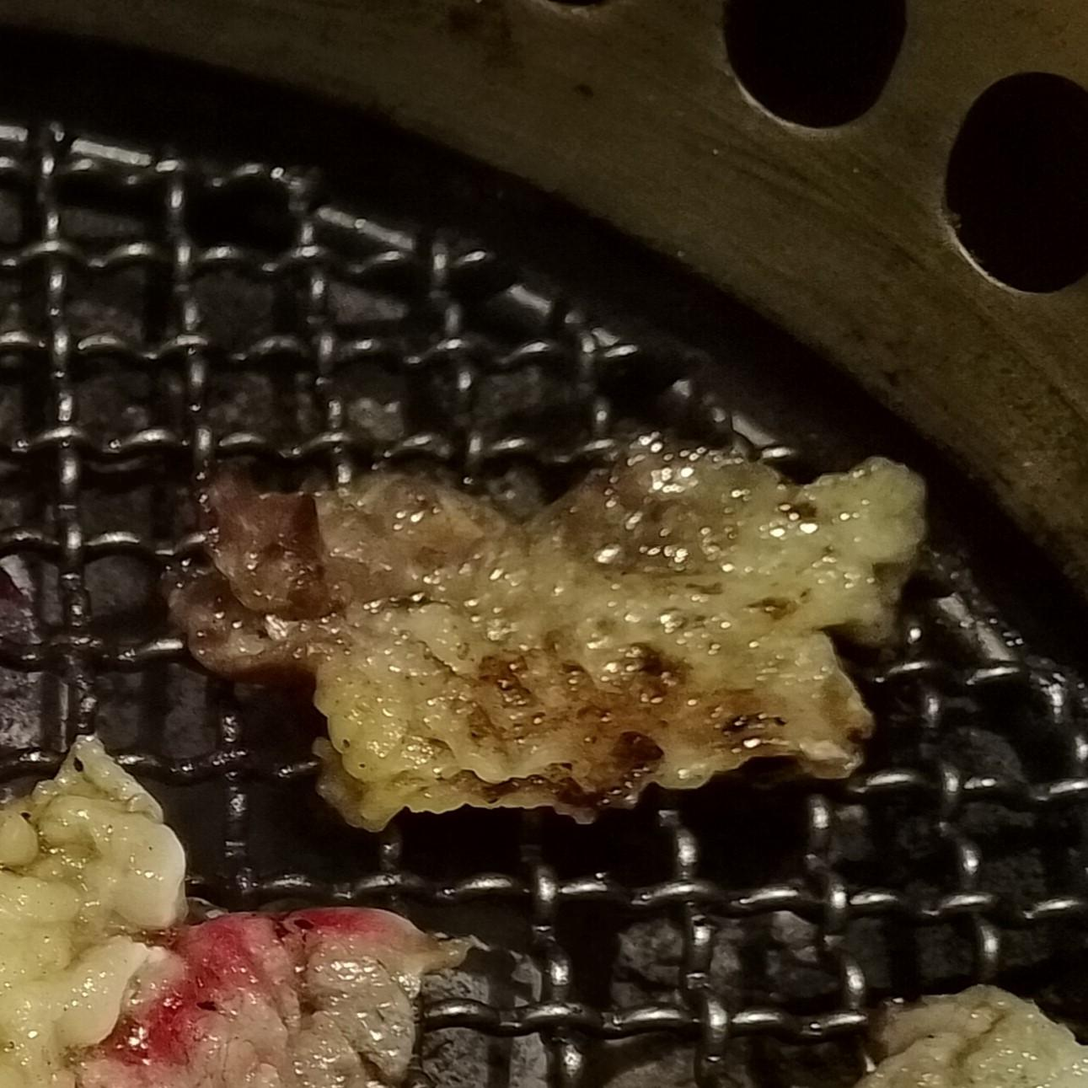Overcooked: (165, 436, 925, 835)
Undercooked: (0, 737, 310, 1087), (0, 905, 473, 1087)
